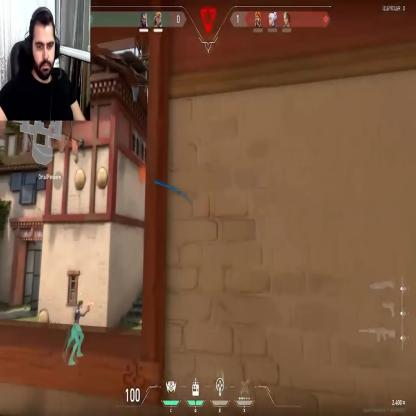Valorant-enemy: (136, 311, 190, 397)
